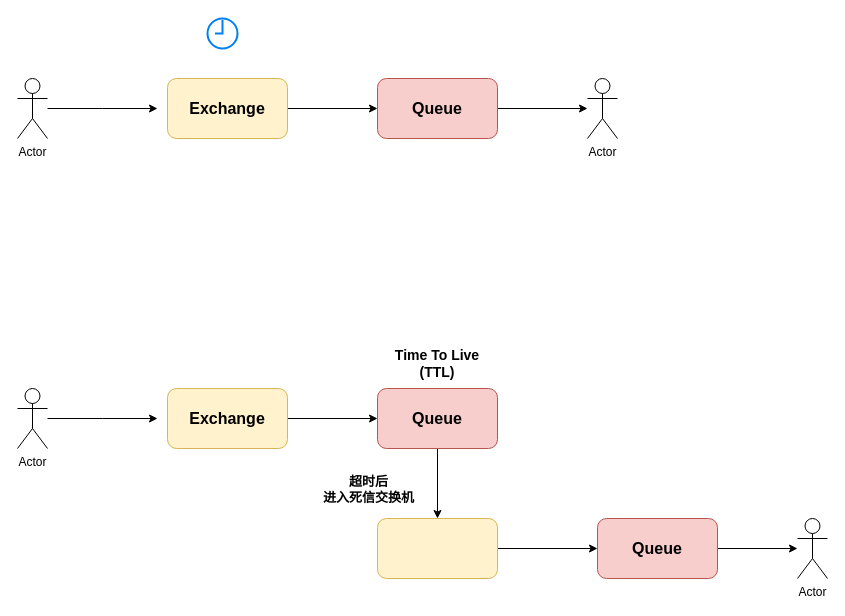
This 845x616 diagram has some shape labels left out. Here are the shapes that lost their labels. From the top down, the centre of each, then its label:
At point 222,33: "delay".
At point 437,548: "Dead Letter Exchange".
